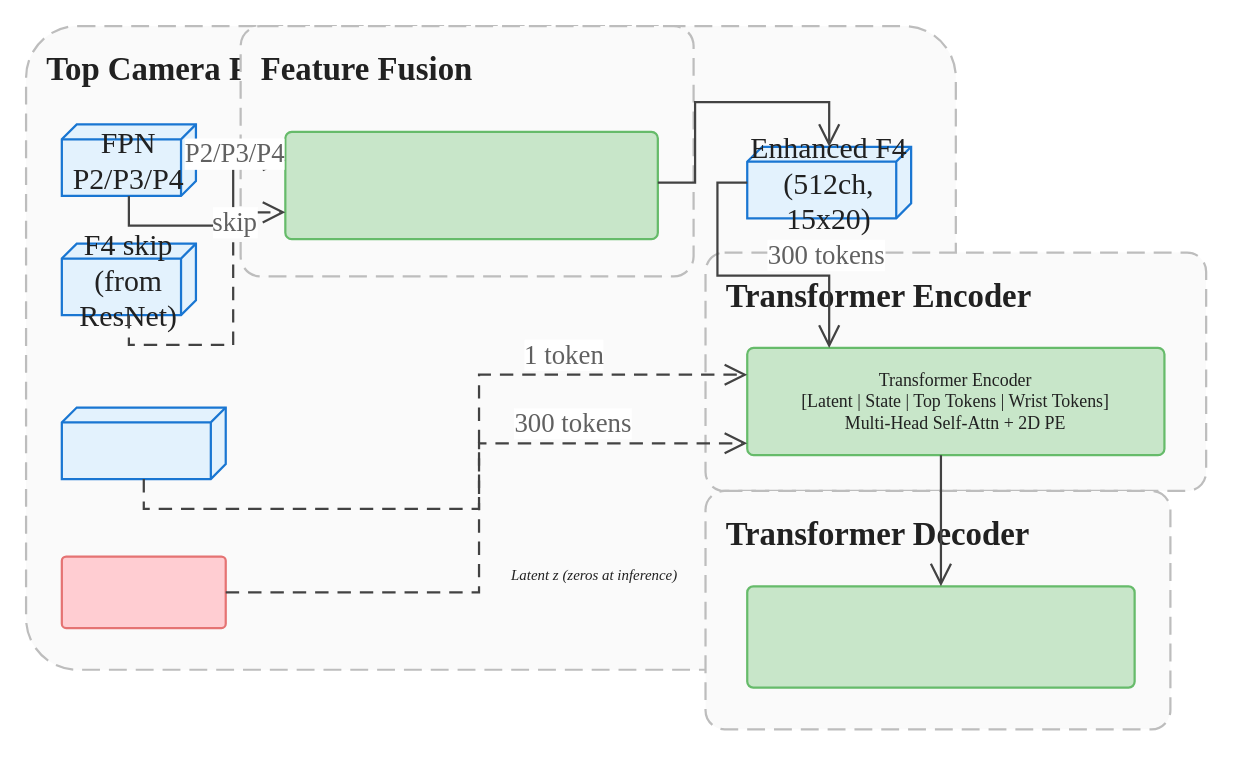
The diagram is 1234 pixels wide and 757 high, and some of its shapes have lost their labels. The box of each missing label's shape, as (x1, y1, x2, y2) in pixels:
Detection-Feature Fusion Spatial Attention Map (15x20) x4 Up -> Enhance F4: (284, 130, 658, 240)
Robot State (9-dim): (60, 555, 226, 628)
Transformer Decoder Learned Queries x Cross-Attention Layer x N: (745, 585, 1135, 688)
Wrist F4 (512ch, 15x20): (60, 406, 226, 479)
